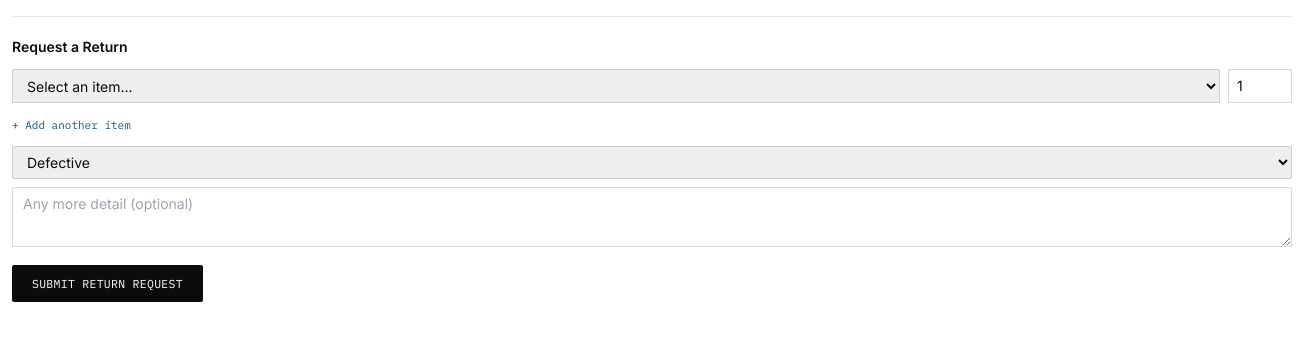
Test: RequestReturnForm › shows the server-returned error and keeps the form visible when submission fails
Select "Copper Pipe 15mm (qty 3)" in the 1st dropdown at (616, 86), box 12,69 -> 1220,103
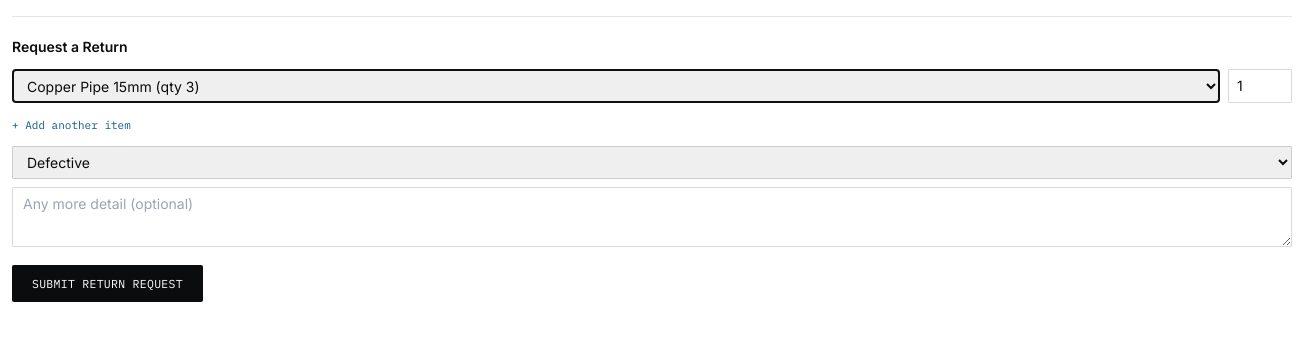
Click the button "Submit Return Request" at (107, 283), box 12,264 -> 203,302
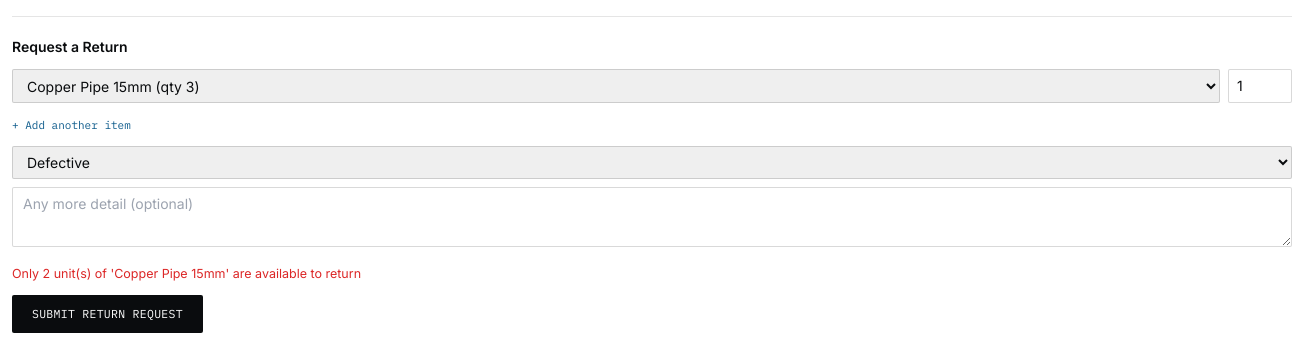
Check: the button "Submit Return Request" is shown, box 12,295 -> 203,333
Check: the text "Only 2 unit(s) of 'Copper Pipe 15mm' are available to return" is shown, box 12,266 -> 361,280
